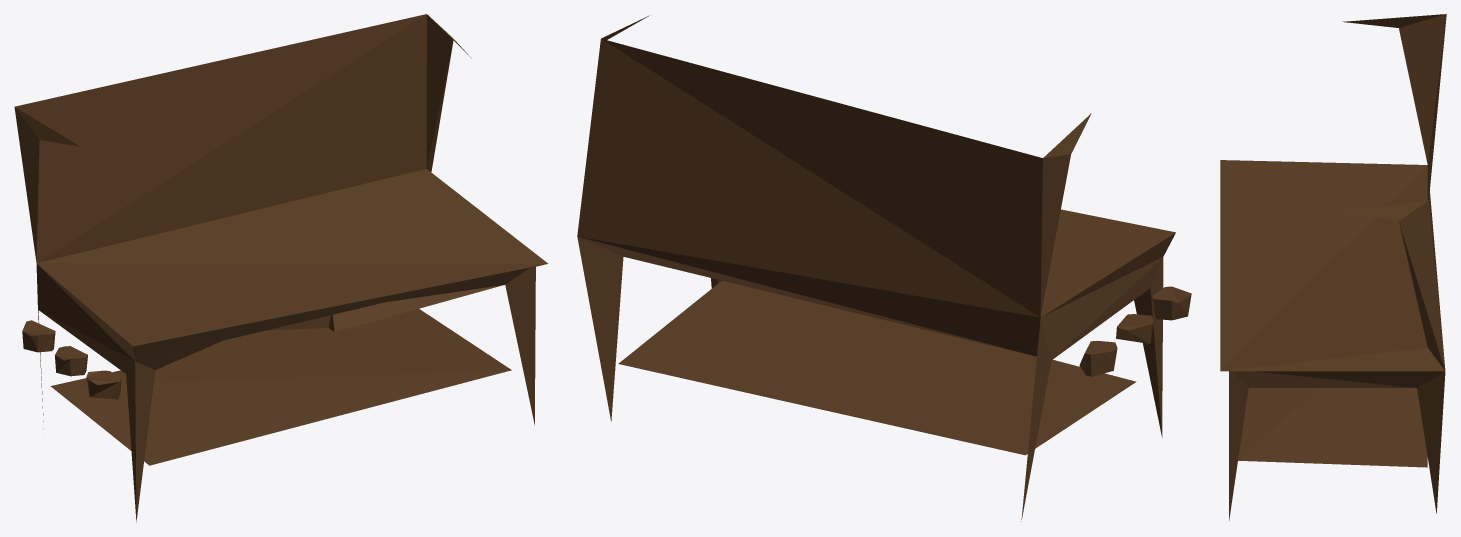
Rendered from smith-workbench.lod2.glb.
3 views of the same model, side by side, from view 1: azimuth 30°, elevation 25°; view 2: azimuth 150°, elevation 25°; view 3: azimuth 270°, elevation 25° (orthographic). The views are drawn at different scales.
Parts seen in each view (by area): view 1: Workbench_Workbench_0; view 2: Workbench_Workbench_0; view 3: Workbench_Workbench_0.
Part boxes in pixels (x1,y1,x2,y2): Workbench_Workbench_0: (14, 14, 547, 522); Workbench_Workbench_0: (577, 15, 1191, 521); Workbench_Workbench_0: (1220, 14, 1446, 520).
Bounding box in the file's own units: 2.7 × 1.95 × 1.25.
